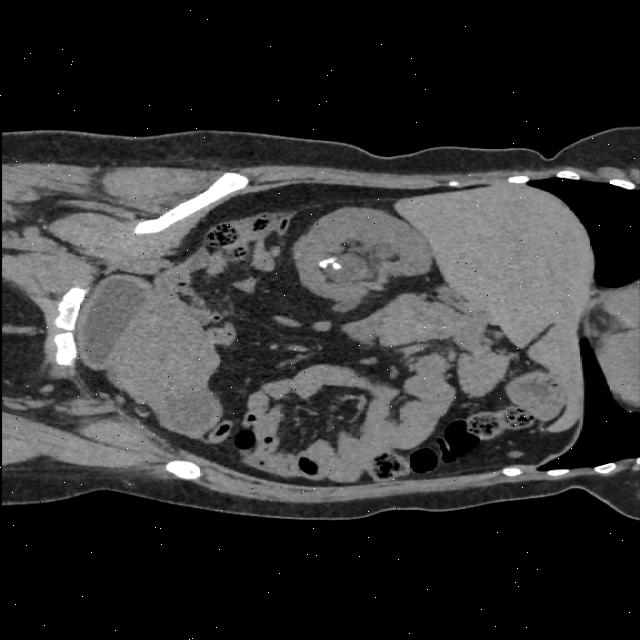kidneystone: (318, 258, 340, 270), (332, 262, 340, 269)
